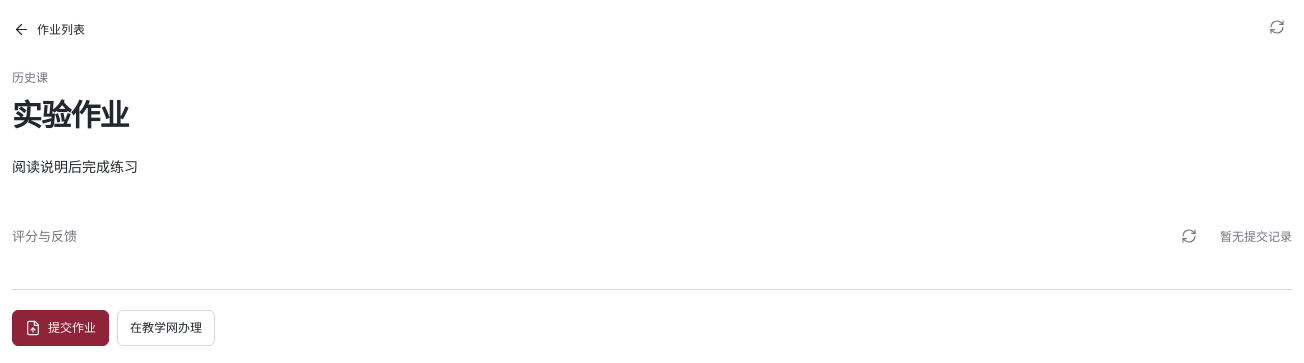
Test: opens an assignment deep link as a page and returns to its course list without starting a submission
This screenshot has width=1304, height=363.
Expected: the heading "实验作业" is shown, [12, 97, 129, 133]
Expected: the text "阅读说明后完成练习" is shown, [12, 158, 138, 175]
What coordinates should you click on to do the following:
click the button "作业列表"
I would click on:
 (55, 30)
Its box is [12, 12, 98, 48].
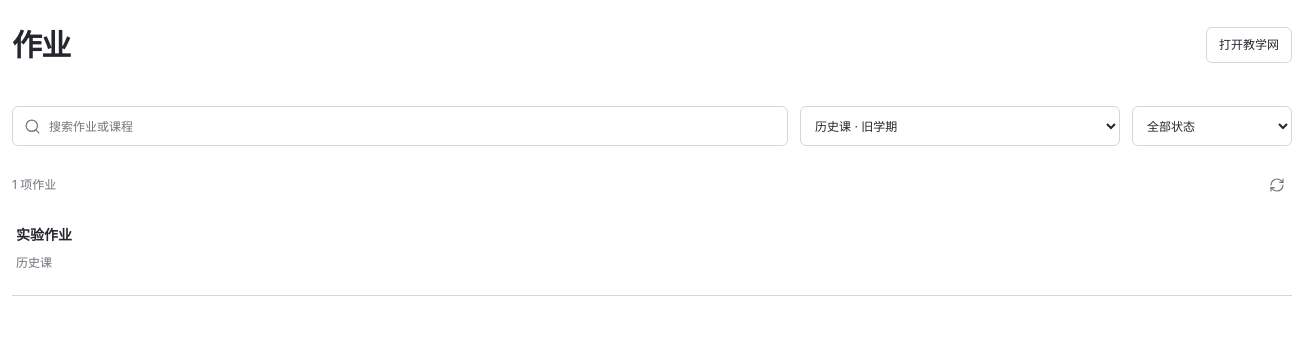
Expected: the dropdown named "作业课程" shows "历史课 · 旧学期", [800, 106, 1120, 146]
Expected: the button "实验作业 历史课" is shown, [12, 208, 1292, 296]
